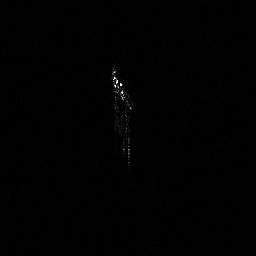ship: (106, 64, 139, 117)
